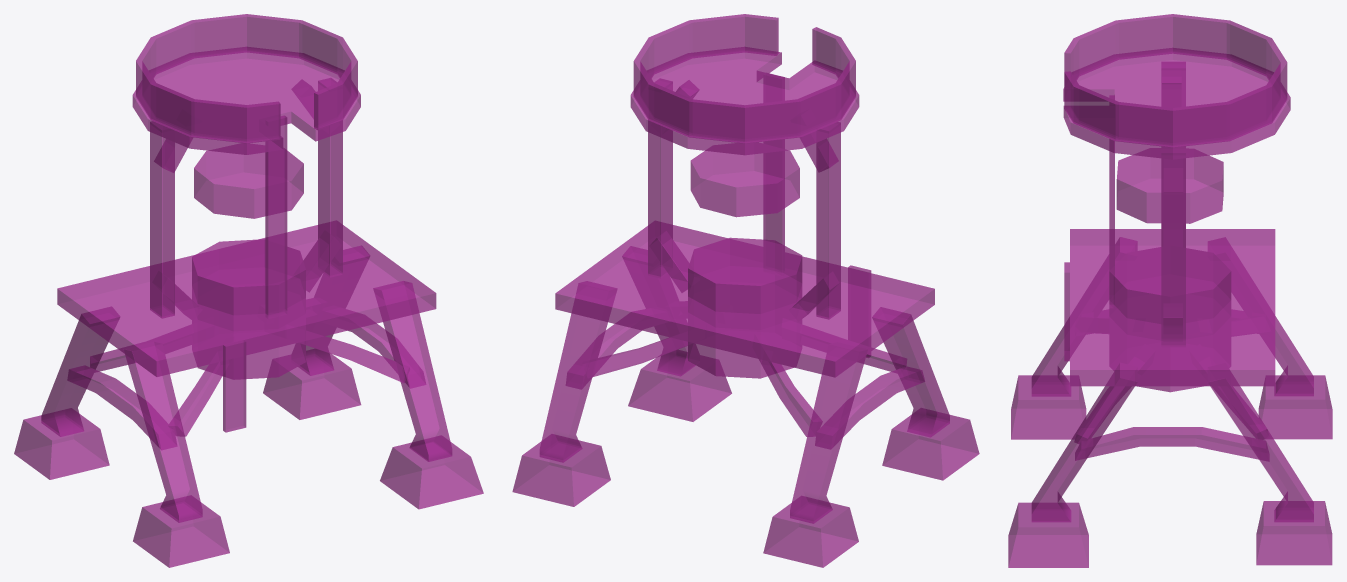
Rendered from SM_Prop_Crane_01_Collision.fbx.
3 renders of one model, left to right at view 1: azimuth 30°, elevation 25°; view 2: azimuth 150°, elevation 25°; view 3: azimuth 270°, elevation 25°, orthographic. The views are drawn at different scales.
Parts seen in each view (by area): view 1: SM_Prop_Crane_01_Collision; view 2: SM_Prop_Crane_01_Collision; view 3: SM_Prop_Crane_01_Collision.
Boxes of the visible parts, <box> form: SM_Prop_Crane_01_Collision: <box>14,14,483,567</box>; SM_Prop_Crane_01_Collision: <box>512,14,979,567</box>; SM_Prop_Crane_01_Collision: <box>1008,14,1332,567</box>.
Bounding box in the file's own units: 878 × 1105 × 762.
